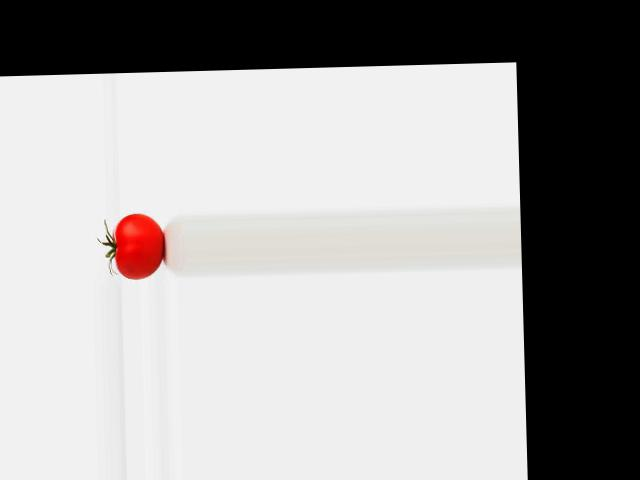tomato: (113, 212, 164, 279)
